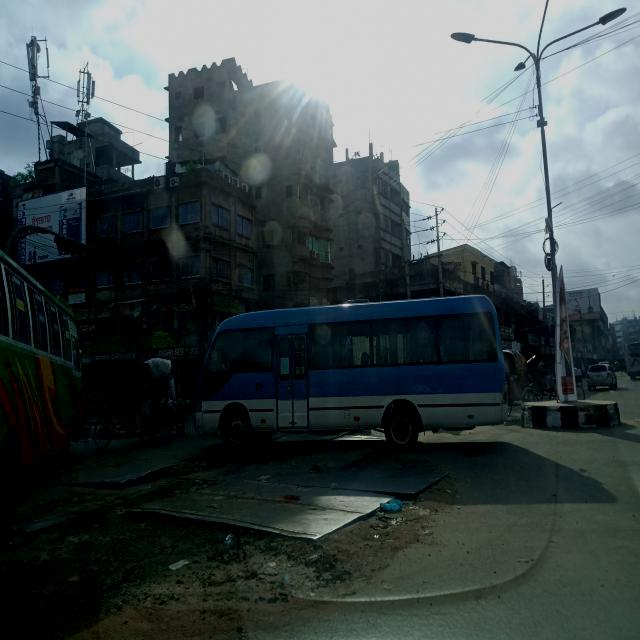bus: (195, 294, 507, 454), (2, 254, 88, 510)
